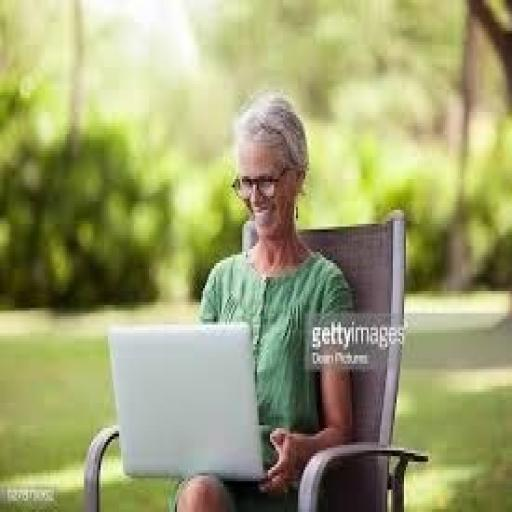using_laptop: (106, 319, 274, 481)
